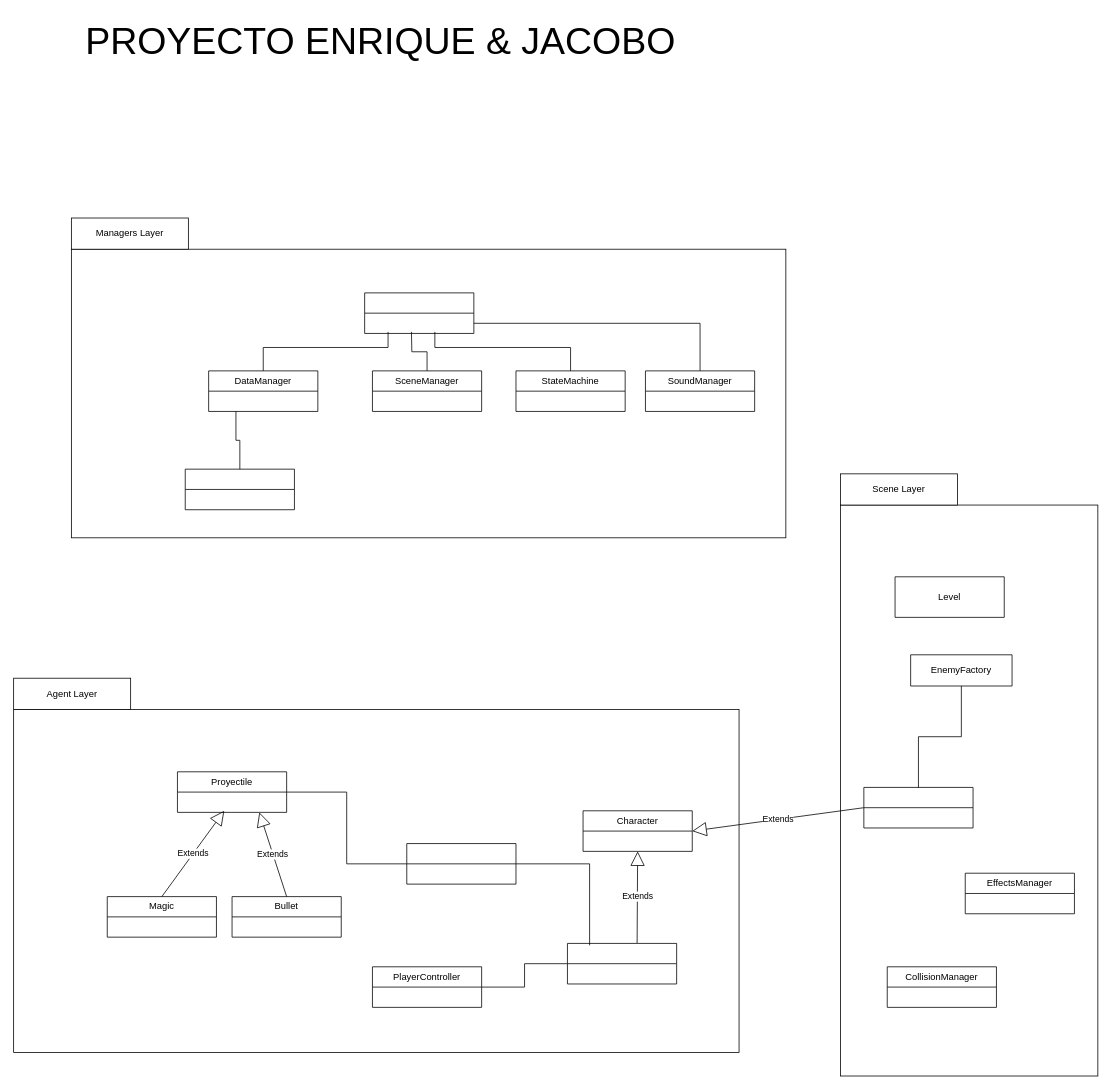
Image size: 1112x1090. Some labels were removed from this diagram. Each missing label, with the box of its shape:
Enemy: (863, 787, 973, 828)
GameManager: (364, 292, 474, 333)
Gun: (406, 843, 516, 884)
Player: (567, 943, 677, 984)
Score: (184, 468, 294, 510)
